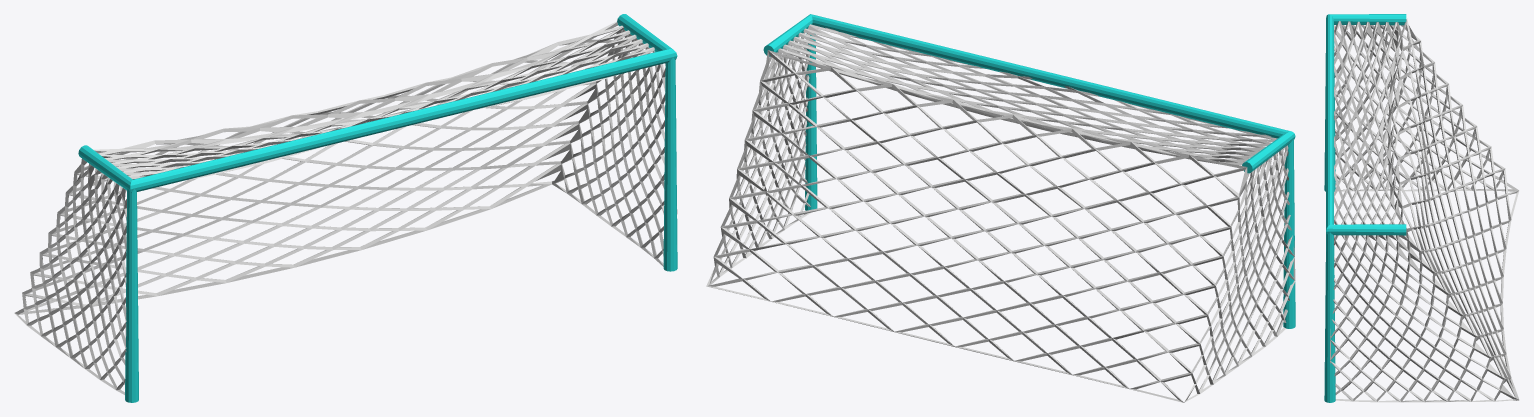
The model's file is but.fbx.
3 views of the same model, side by side, from view 1: azimuth 30°, elevation 25°; view 2: azimuth 150°, elevation 25°; view 3: azimuth 270°, elevation 25° (orthographic). The views are drawn at different scales.
Parts seen in each view (by area): view 1: Filet, Poteaux; view 2: Filet, Poteaux; view 3: Filet, Poteaux.
Boxes of the visible parts, left/top/right/bottom form: Filet: left=14, top=21, right=677, bottom=394; Poteaux: left=78, top=14, right=677, bottom=402; Filet: left=706, top=24, right=1295, bottom=402; Poteaux: left=763, top=14, right=1295, bottom=328; Filet: left=1330, top=18, right=1519, bottom=402; Poteaux: left=1324, top=14, right=1406, bottom=402.
Size of what is drawn, in the model's own units: 541 by 207 by 217.
